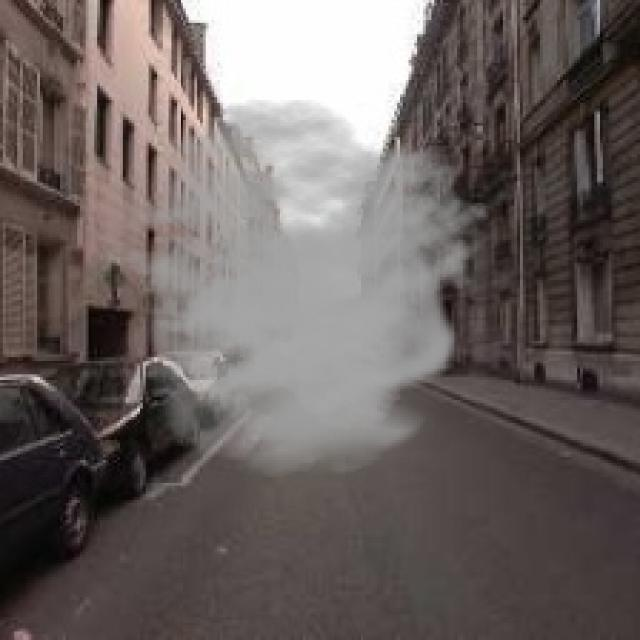Smoke: (94, 97, 492, 477)
